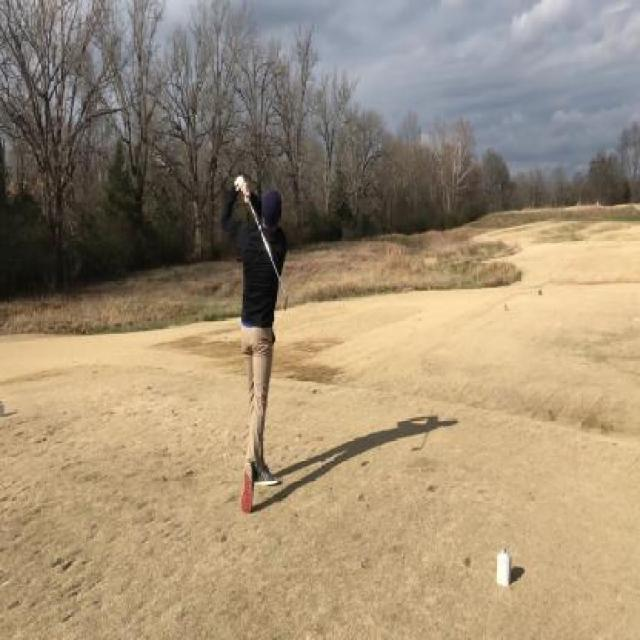club head: (282, 288, 288, 312)
